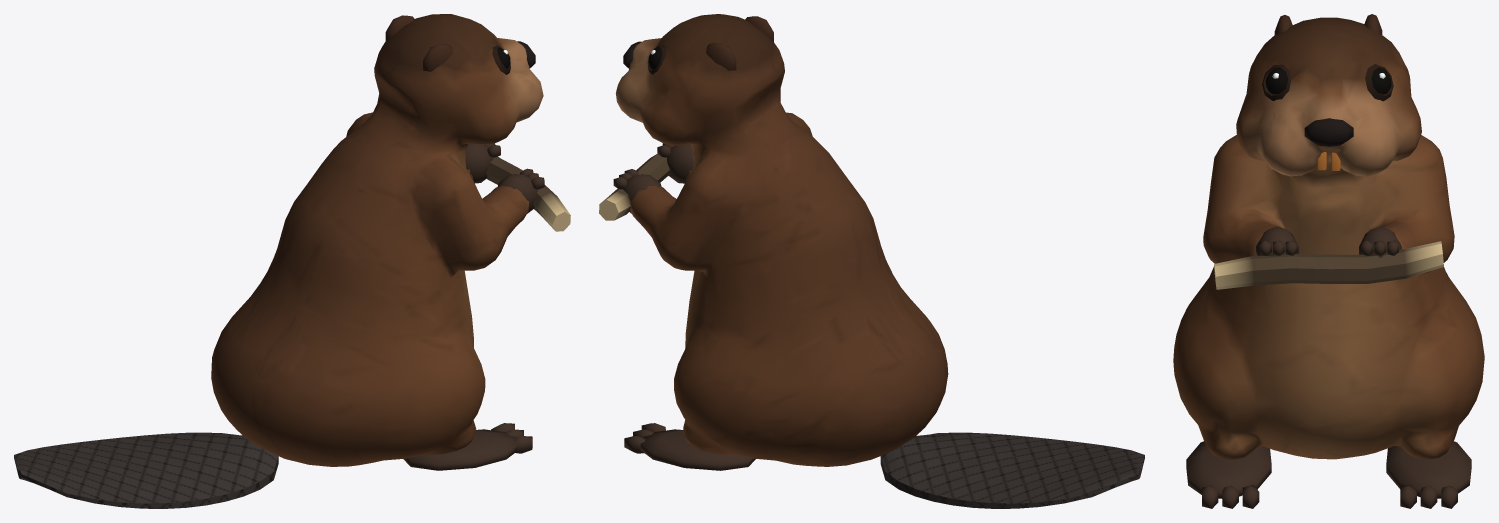
The model's file is beaver.glb.
The picture shows the model from 3 angles, left to right: view 1: azimuth 30°, elevation 25°; view 2: azimuth 150°, elevation 25°; view 3: azimuth 270°, elevation 25°; orthographic projection. The views are drawn at different scales.
Visible parts, largest first — view 1: beaver; view 2: beaver; view 3: beaver.
Part boxes in pixels (box(x1,y1,x2,y2)): beaver: box(14, 14, 570, 508); beaver: box(599, 14, 1144, 508); beaver: box(1173, 14, 1484, 508).
Bounding box in the file's own units: 45.3 × 34.01 × 20.55.
1 material, 1 textured.
